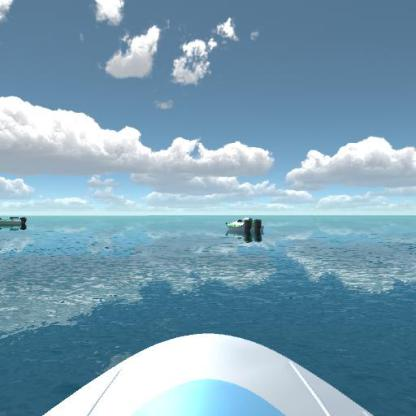usv0: (223, 211, 265, 243), (0, 211, 30, 233)
